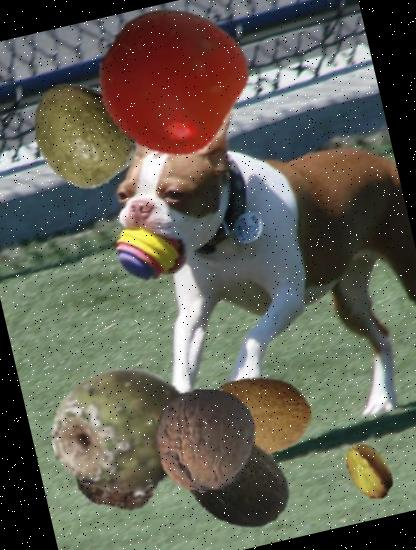Cactus: (37, 346, 212, 520)
Carambula: (333, 435, 405, 507)
Guava: (15, 64, 152, 201)
Kiwi: (193, 352, 322, 480)
Melon: (167, 412, 304, 550)
Pineapple: (60, 396, 184, 520)
Tomato: (80, 0, 257, 168)
Walnut: (142, 378, 266, 502)
